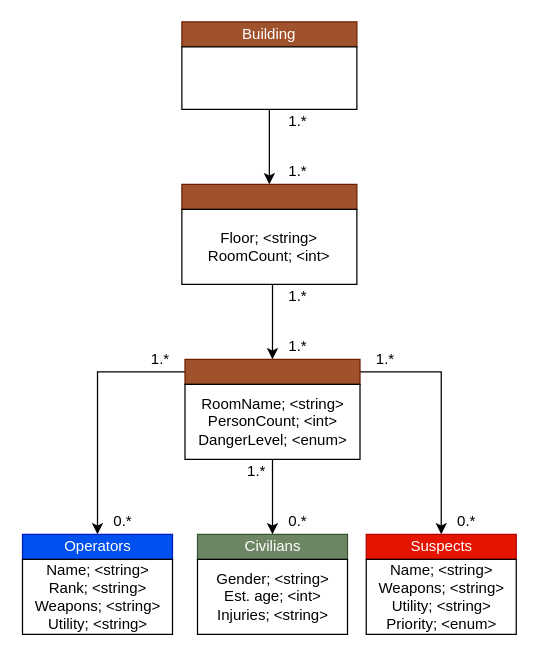
Some shapes in this 538 by 656 pixel diagram are drawn without their labels. Here are the shapes that lost their labels. From the top down, the centre of each, then its label:
At (269,77): "Name; <char> FloorCount; <int>".
At (269,196): "Floor".
At (272,371): "Room".
